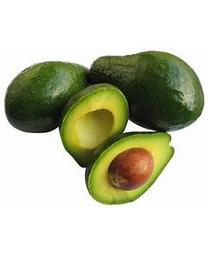avocado: (89, 50, 204, 133), (85, 131, 174, 206), (4, 61, 92, 134), (59, 84, 130, 167)
